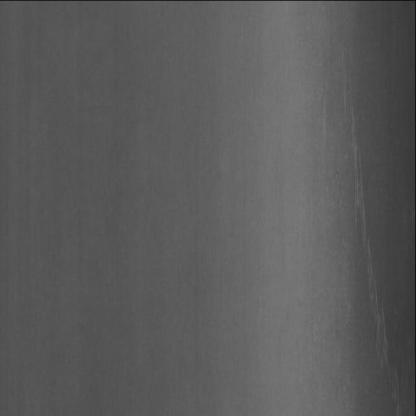silk_spot: (327, 110, 395, 347)
